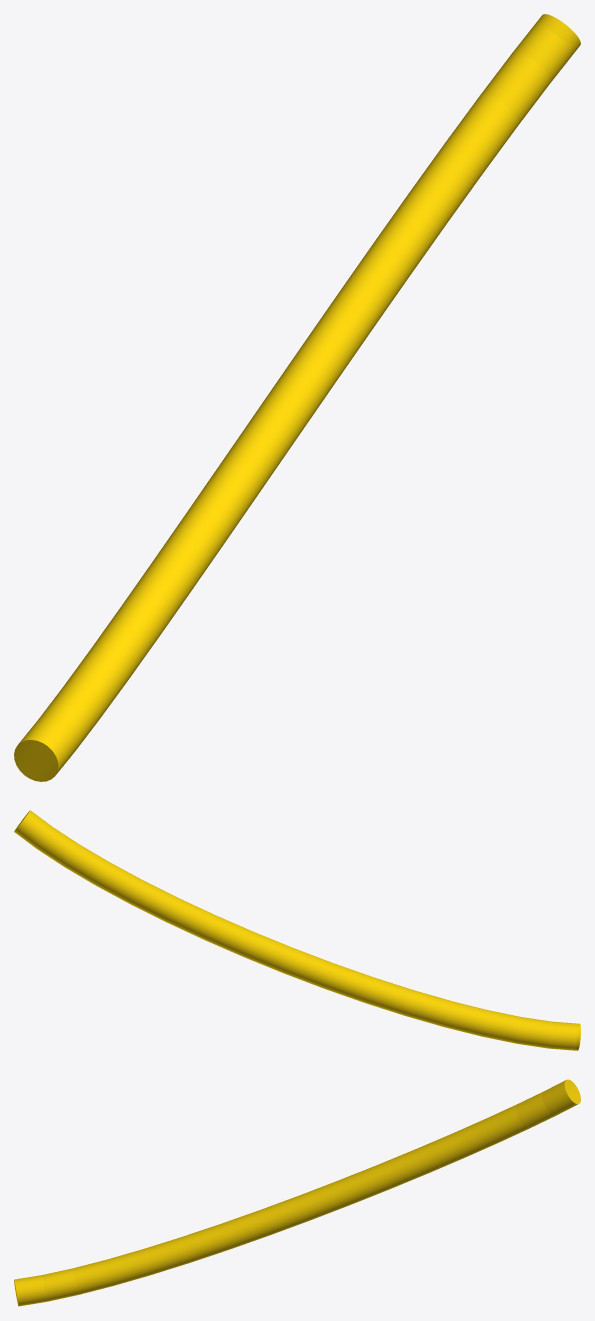
Rendered from Event_421364160_track_61.fbx.
3 views of the same model, one above another, from view 1: azimuth 30°, elevation 25°; view 2: azimuth 150°, elevation 25°; view 3: azimuth 330°, elevation 25° (orthographic). The views are drawn at different scales.
Parts seen in each view (by area): view 1: Model; view 2: Model; view 3: Model.
Part boxes in pixels (bbox=[...]): Model: bbox=[14, 14, 580, 781]; Model: bbox=[14, 810, 580, 1050]; Model: bbox=[14, 1079, 580, 1306].
Bounding box in the file's own units: 0.7445 × 0.3745 × 0.4216.
